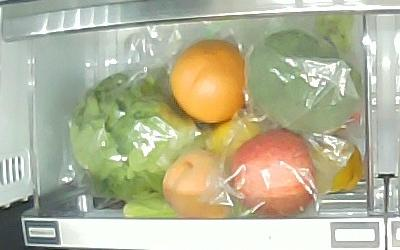apple_vinyl: (231, 129, 318, 217)
broccoli_vinyl: (248, 14, 362, 134)
grapefruit: (170, 40, 247, 124)
lettuce_vinyl: (69, 73, 206, 202)
peach_vinyl: (162, 150, 232, 219)
